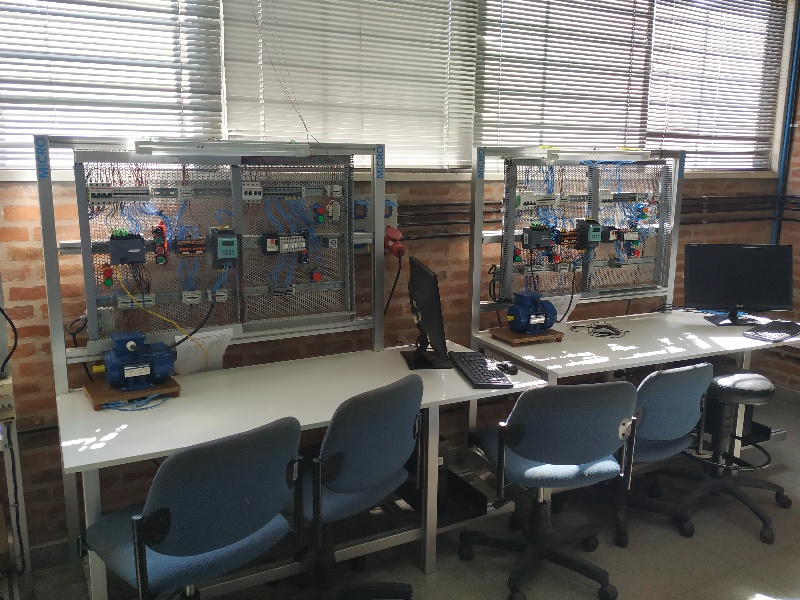Tablero 1: (77, 159, 361, 332)
Tablero 2: (514, 164, 667, 295)
